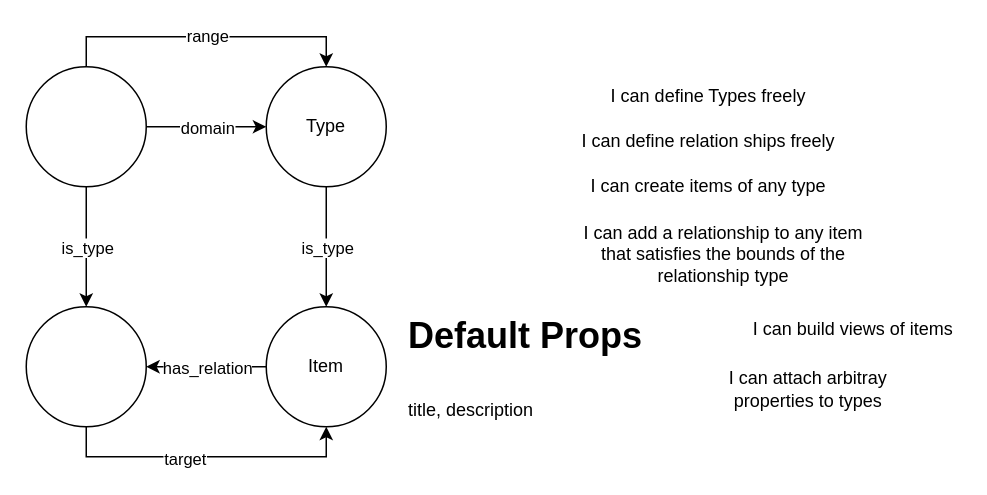
Image size: 987x495. Some labels were removed from this diagram. The centre of each missing label's shape, as x and y in pixels:
Relation: the point at 85,366
RelationType: the point at 85,126
